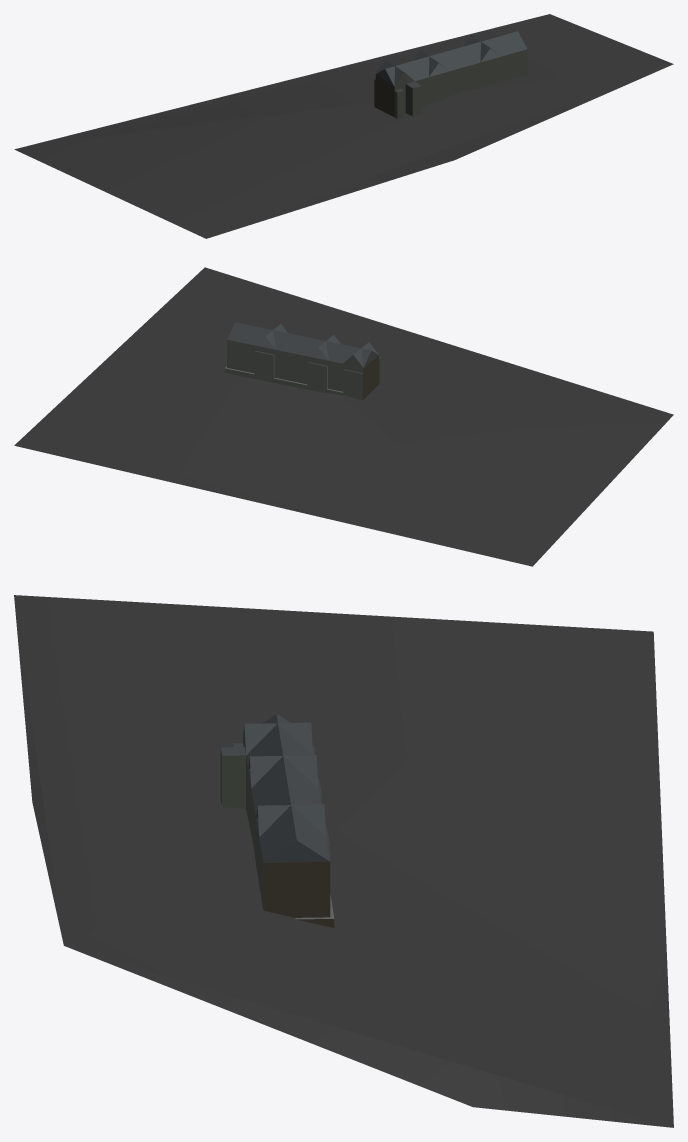
File: riverset-apartment-complex-bld-2.glb
3 views of the same model, one above another, from view 1: azimuth 30°, elevation 25°; view 2: azimuth 150°, elevation 25°; view 3: azimuth 270°, elevation 25° (orthographic). The views are drawn at different scales.
Parts seen in each view (by area): view 1: LOD0; view 2: LOD0; view 3: LOD0.
Boxes of the visible parts, box(x1,y1,x2,y2) form: LOD0: box(14, 14, 673, 238); LOD0: box(14, 267, 673, 566); LOD0: box(14, 595, 673, 1127).
Size of what is drawn, in the model's own units: 196 by 30.67 by 110.
2 materials, 2 textured.
